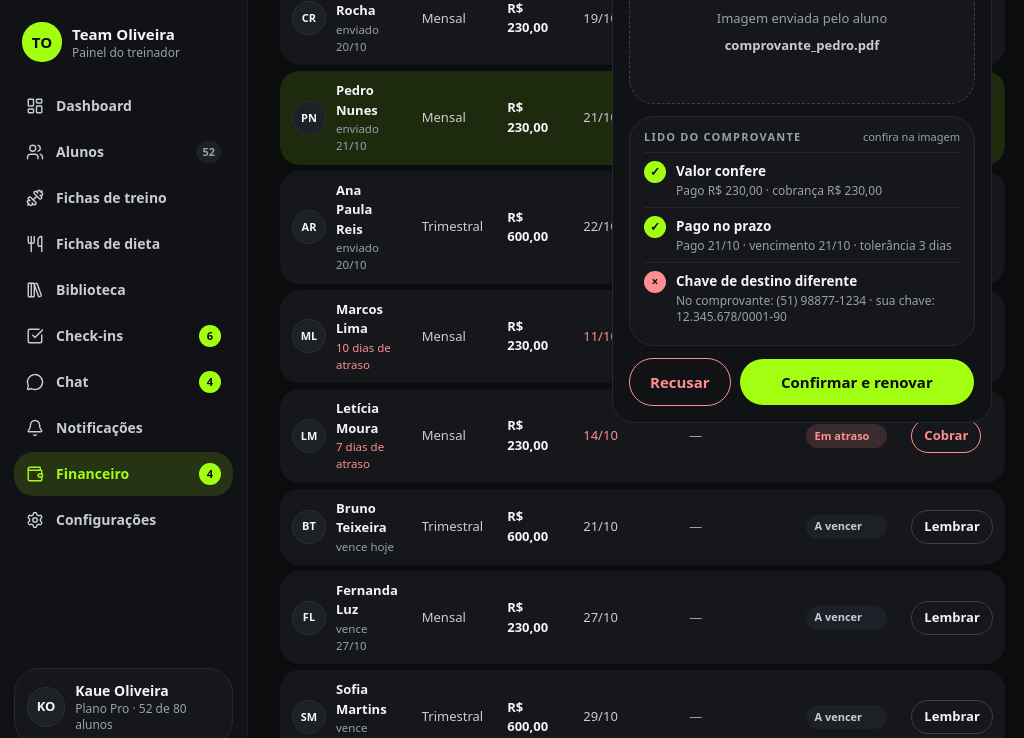
Test: Financeiro (desktop) › tabela e comprovante ao lado; decidir abre o próximo
(page scrolled)
Expected: the element named "Conferência" shows "Chave de destino diferente", [676, 272, 857, 290]
Click the button "Recusar".
click(680, 382)  # box [629, 358, 731, 406]
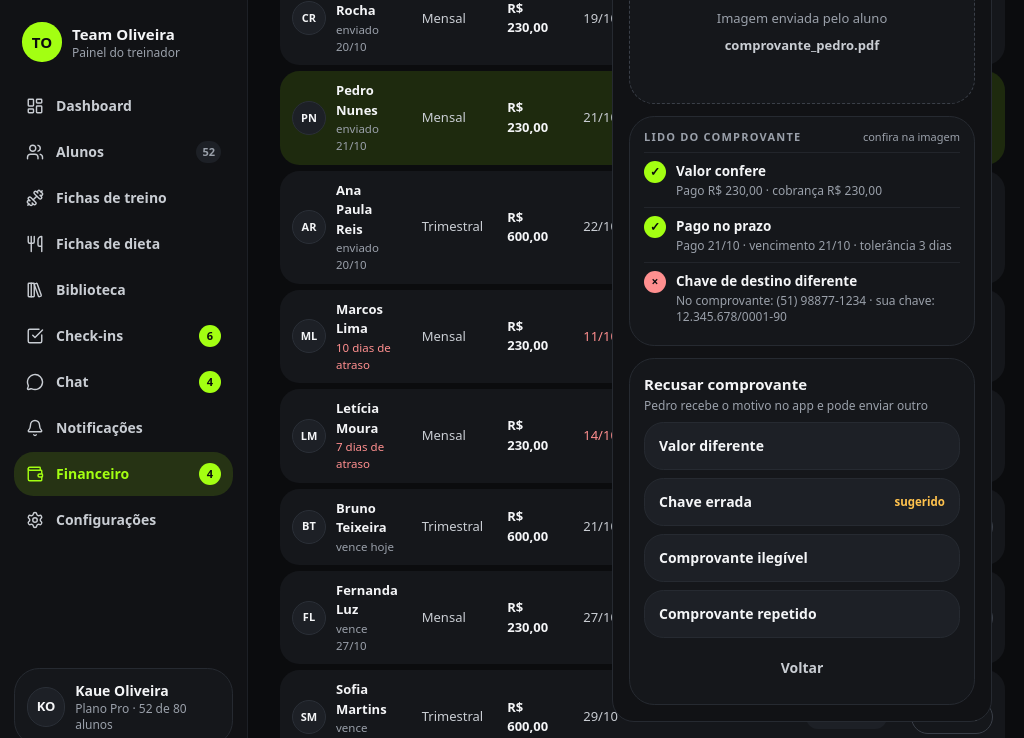
Click the button "Chave errada sugerido".
click(705, 501)  # box [644, 478, 960, 526]
(page scrolled)
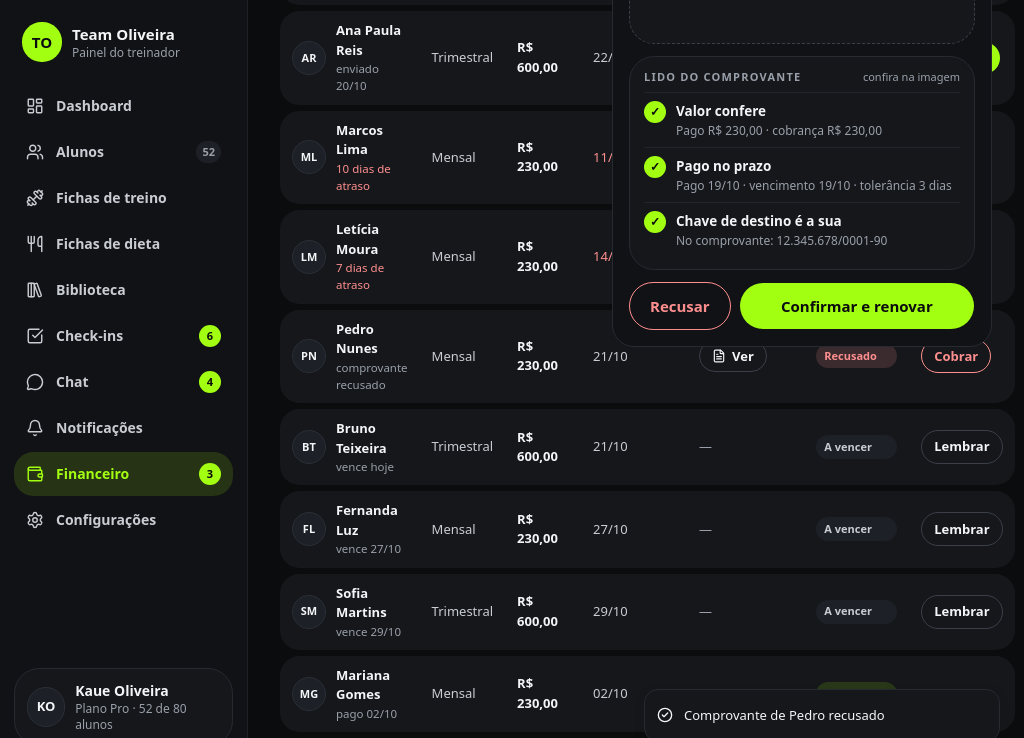
Expected: the text "Comprovante de Pedro recusado" is shown, [684, 706, 885, 725]
Expected: the table named "Cobranças do mês" shows "Recusado", [824, 348, 877, 363]
